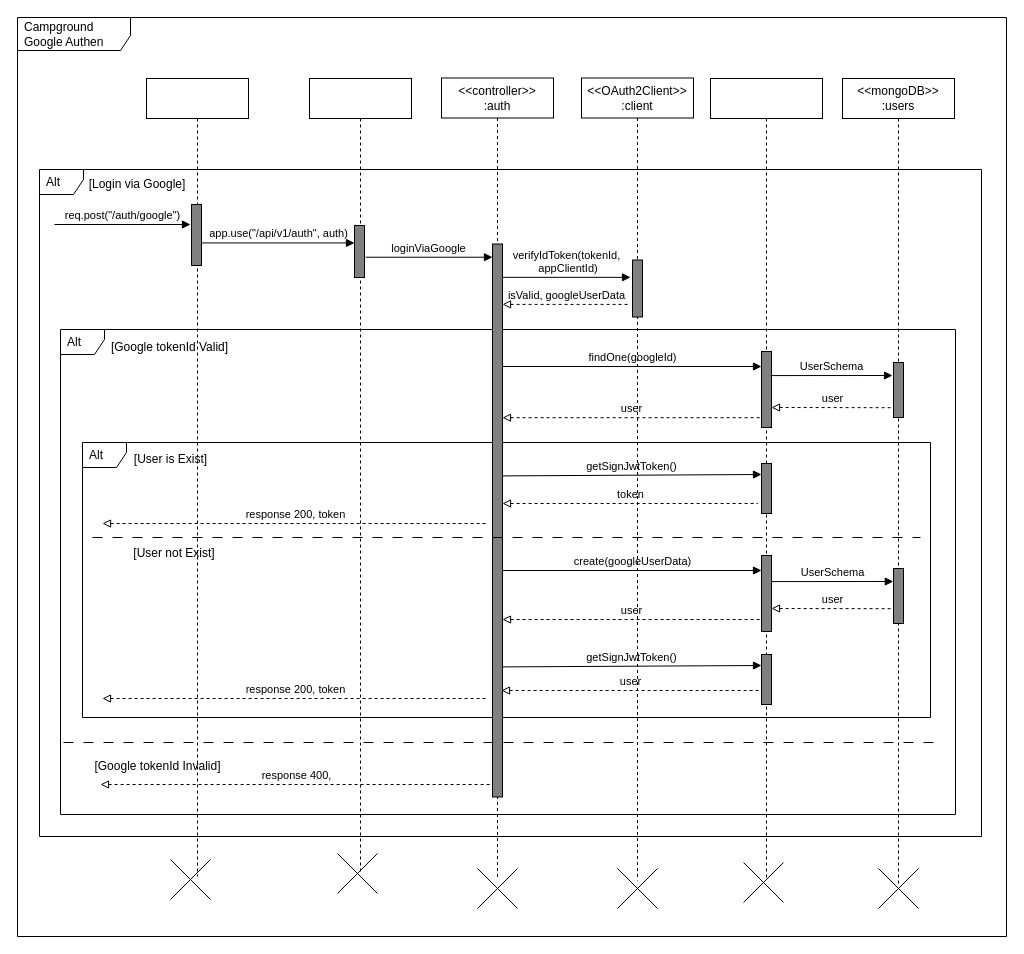
Image size: 1024x954. Some labels were removed from this diagram. The box of each missing label's shape, as (x1, y1, x2, y2) in pixels:
<<javaScript>> :server: (146, 78, 248, 876)
<<model>> :User: (710, 78, 822, 878)
<<router>> :auth: (308, 78, 412, 874)
